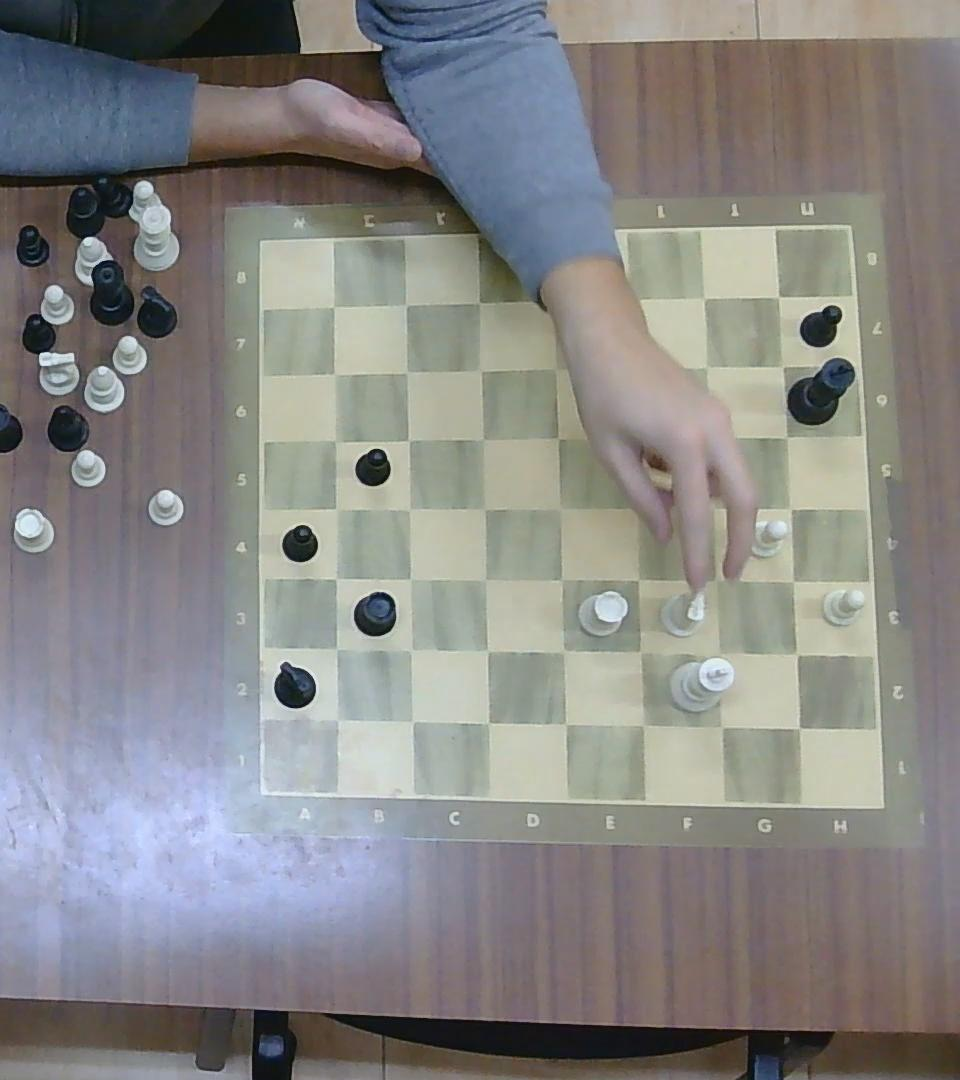xcorner: (781, 710, 815, 744), (626, 707, 658, 740), (463, 285, 495, 318), (701, 637, 734, 669), (548, 706, 580, 738), (705, 710, 736, 743), (540, 285, 571, 318), (471, 706, 502, 738), (625, 635, 656, 667), (547, 635, 578, 667), (781, 638, 812, 670), (320, 703, 352, 734), (776, 565, 808, 595), (471, 634, 501, 665), (396, 705, 427, 735), (547, 563, 577, 594), (701, 563, 731, 594), (320, 634, 351, 664), (619, 421, 649, 452), (317, 290, 347, 320), (320, 563, 350, 593), (623, 563, 652, 594), (543, 352, 572, 383), (776, 493, 806, 522), (621, 283, 650, 313), (620, 350, 648, 381), (470, 564, 499, 593), (391, 289, 420, 318), (622, 491, 651, 520), (471, 493, 499, 522), (547, 493, 575, 522), (395, 493, 423, 522), (396, 635, 424, 664), (693, 351, 721, 380), (769, 351, 797, 380), (698, 491, 726, 520), (393, 426, 421, 454), (323, 495, 351, 523), (321, 426, 349, 453), (692, 284, 719, 312), (468, 424, 495, 452), (395, 565, 423, 592), (320, 359, 348, 386), (467, 355, 493, 383), (546, 423, 572, 450), (773, 421, 799, 448), (697, 421, 722, 449), (392, 358, 419, 383), (766, 284, 791, 309)
